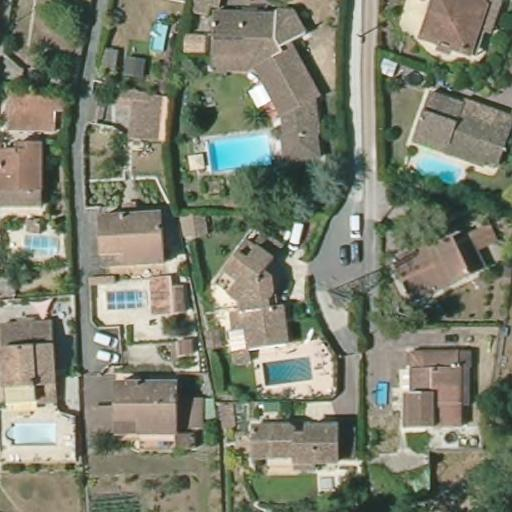pool: (203, 127, 279, 177), (252, 350, 320, 390), (401, 147, 467, 188), (1, 417, 67, 447), (12, 229, 65, 260), (103, 284, 153, 314), (142, 10, 172, 57), (368, 375, 392, 408)
